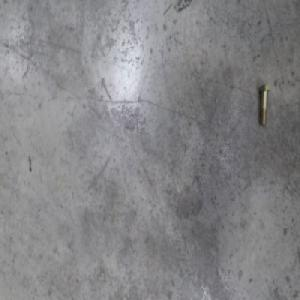Bolt: (257, 84, 269, 127)
